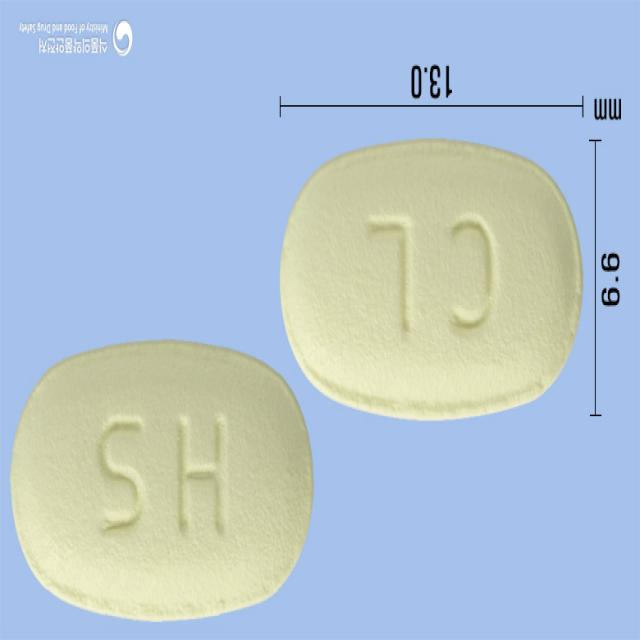Celltrion Clarithromycin: (280, 140, 583, 421), (9, 343, 312, 623)
